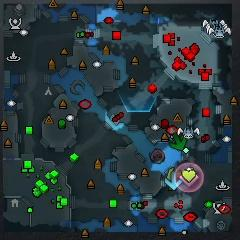Other: (180, 167, 200, 188)
x2: (166, 168, 176, 181)
x3: (164, 172, 182, 190)
x4: (170, 132, 187, 151)
